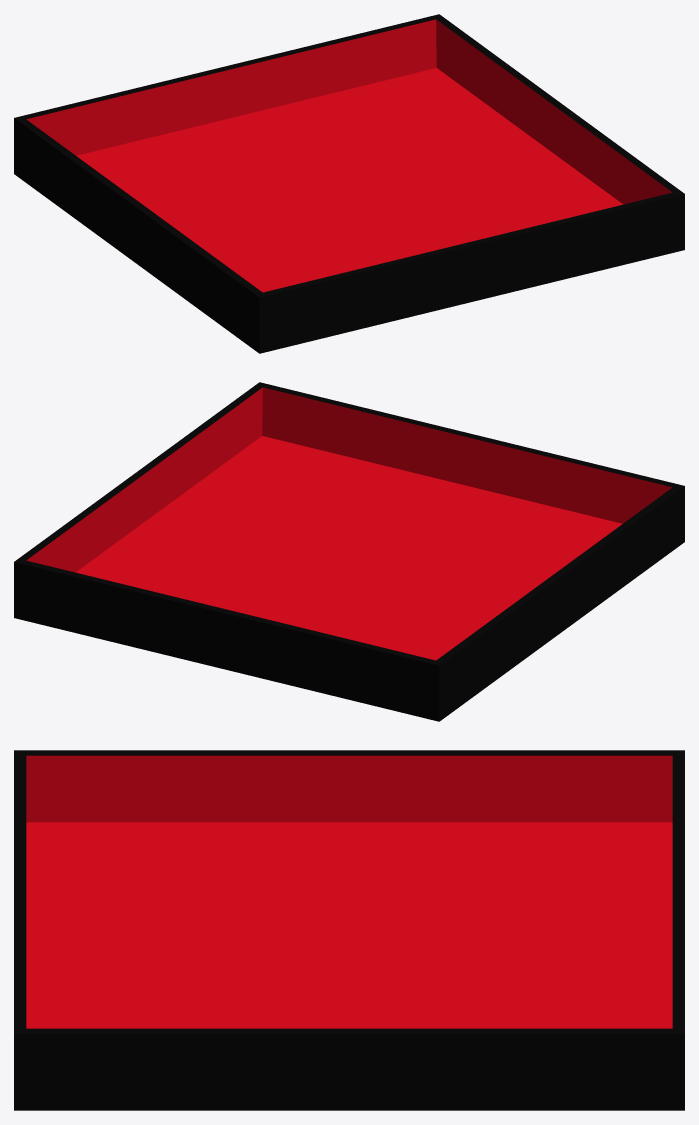
File: dice_box_V2.fbx
3 views of the same model, one above another, from view 1: azimuth 30°, elevation 25°; view 2: azimuth 150°, elevation 25°; view 3: azimuth 270°, elevation 25° (orthographic). The views are drawn at different scales.
Parts seen in each view (by area): view 1: Dice_Box; view 2: Dice_Box; view 3: Dice_Box.
Part boxes in pixels (x1,y1,x2,y2): Dice_Box: [14, 14, 684, 353]; Dice_Box: [14, 382, 684, 721]; Dice_Box: [14, 750, 684, 1110].
Bounding box in the file's own units: 233 × 29.41 × 233.
